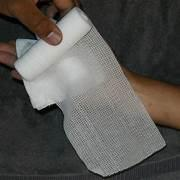Bandage: (15, 8, 164, 176)
cotton: (16, 26, 164, 176), (15, 8, 102, 108), (15, 7, 91, 80), (24, 46, 104, 109)
